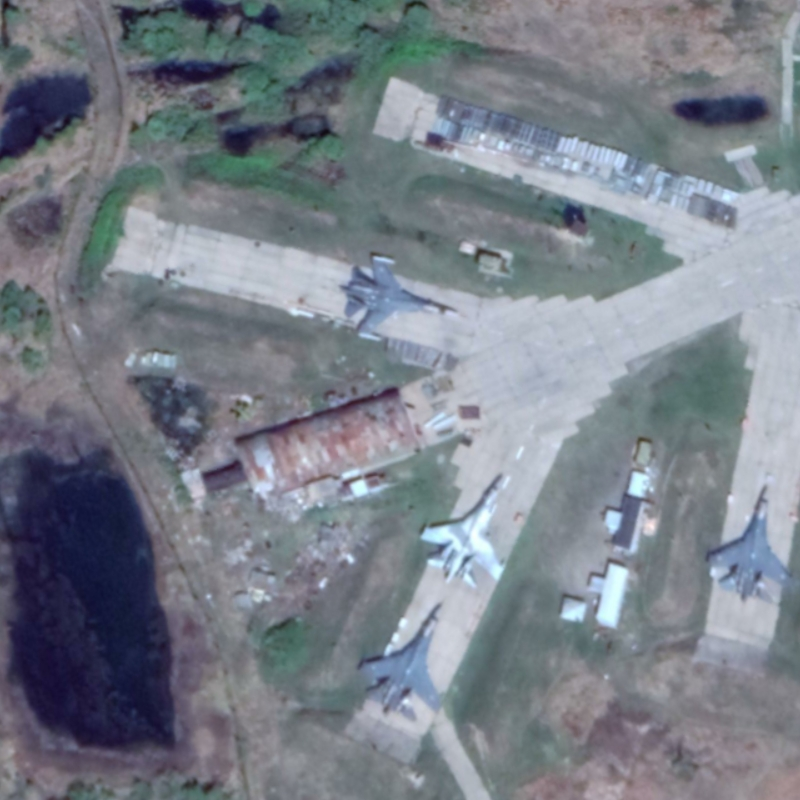A1: (358, 597, 450, 727), (702, 482, 796, 609), (342, 251, 466, 346), (416, 470, 512, 591)
